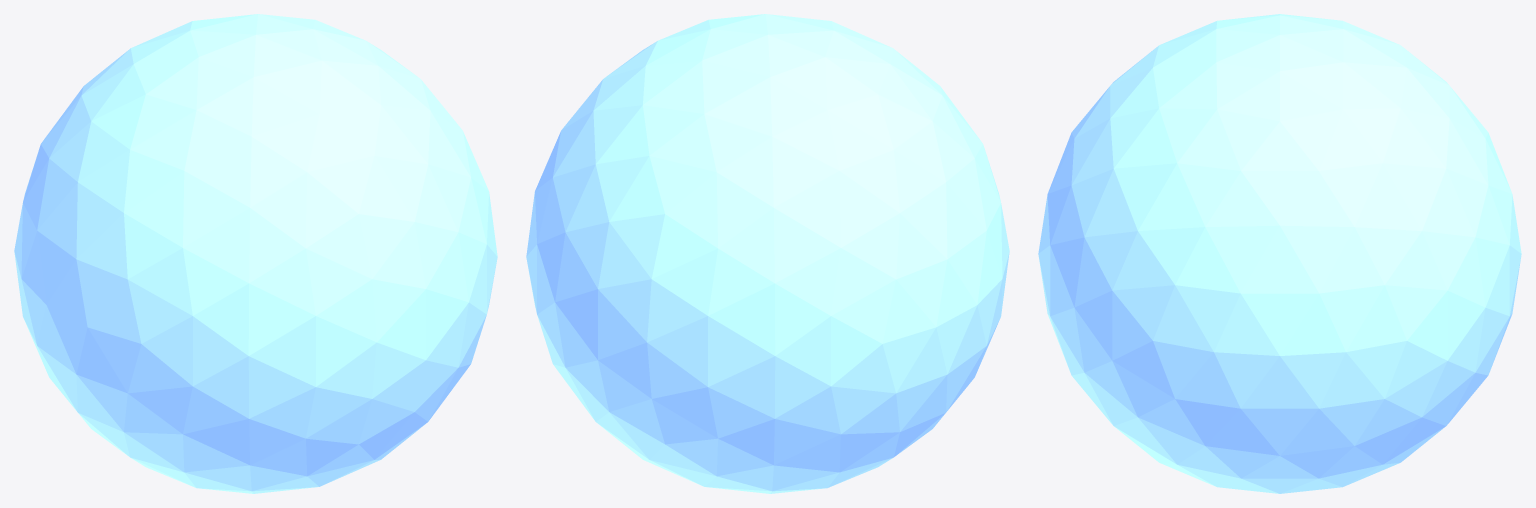
The model's file is hexad-availability.glb.
The picture shows the model from 3 angles, left to right: view 1: azimuth 30°, elevation 25°; view 2: azimuth 150°, elevation 25°; view 3: azimuth 270°, elevation 25°; orthographic projection.
Visible parts, largest first — view 1: Outer_Shell; view 2: Outer_Shell; view 3: Outer_Shell.
Part boxes in pixels (x1,y1,x2,y2): Outer_Shell: (14,14,497,493); Outer_Shell: (526,14,1009,493); Outer_Shell: (1038,14,1521,493).
Size of the model in its own units: 2.28 by 2.28 by 2.28.
